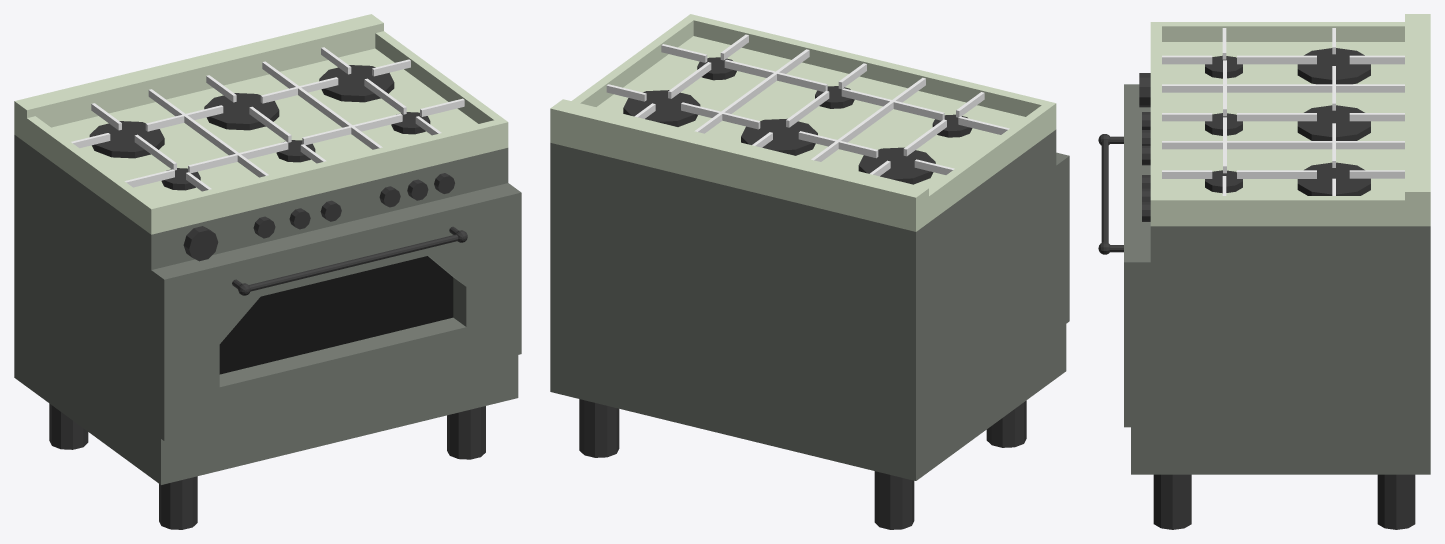
Rendered from Four.fbx.
3 renders of one model, left to right at view 1: azimuth 30°, elevation 25°; view 2: azimuth 150°, elevation 25°; view 3: azimuth 270°, elevation 25°, orthographic. The views are drawn at different scales.
Visible parts, largest first — view 1: four_B; view 2: four_B; view 3: four_B.
Part boxes in pixels (box(x1,y1,x2,y2)): four_B: box(14, 14, 521, 529); four_B: box(550, 14, 1069, 529); four_B: box(1098, 14, 1430, 529).
Bounding box in the file's own units: 138 × 124 × 109.
